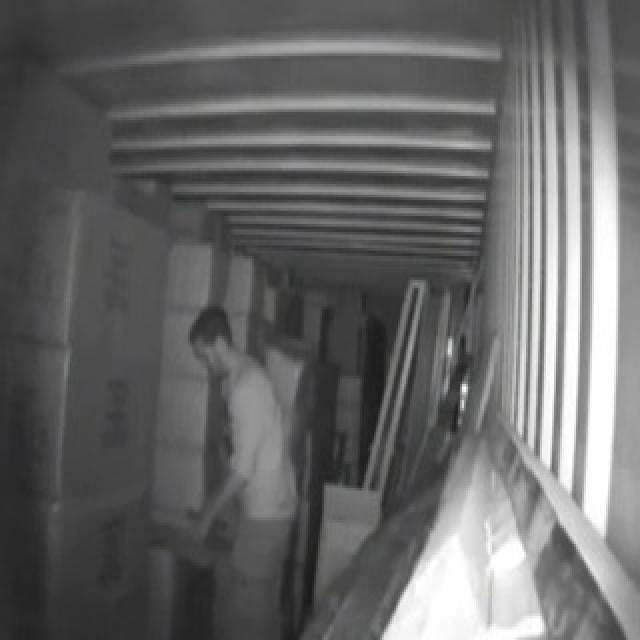thief: (171, 299, 297, 632)
